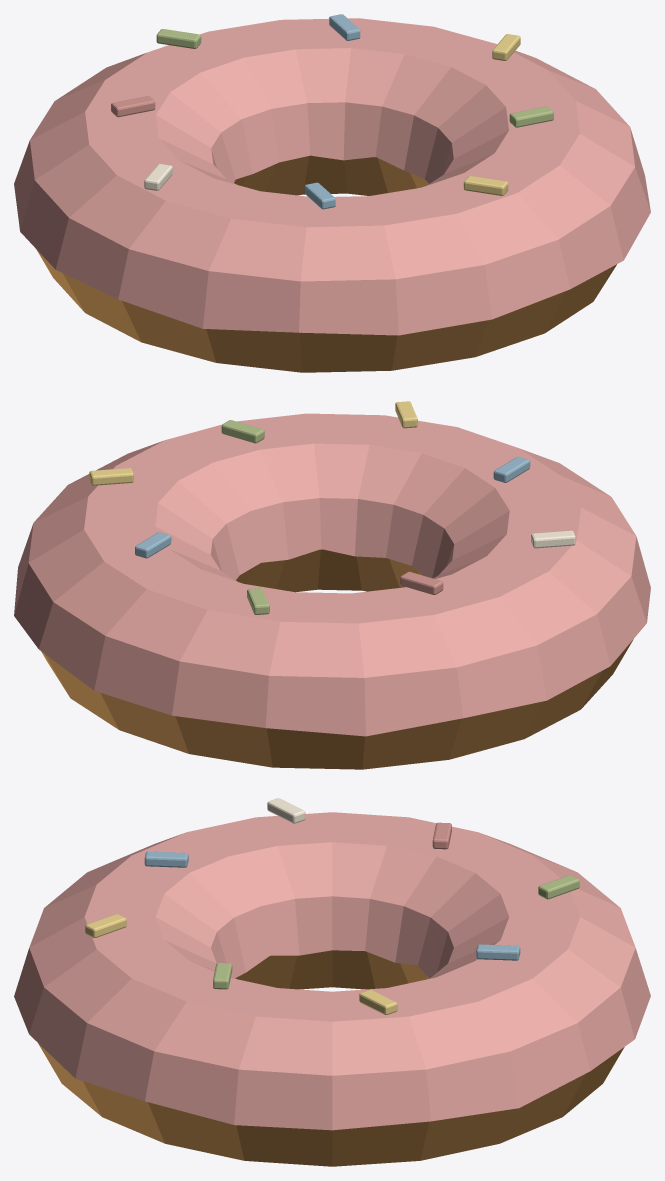
The model's file is doughnut.fbx.
The picture shows the model from 3 angles, top to bottom: view 1: azimuth 30°, elevation 25°; view 2: azimuth 150°, elevation 25°; view 3: azimuth 270°, elevation 25°; orthographic projection.
Visible parts, largest first — view 1: doughnut; view 2: doughnut; view 3: doughnut.
Part boxes in pixels (<box>): doughnut: <box>14,14,650,372</box>; doughnut: <box>14,401,650,769</box>; doughnut: <box>14,798,650,1166</box>.
Bounding box in the file's own units: 23.7 × 6.85 × 23.7.
